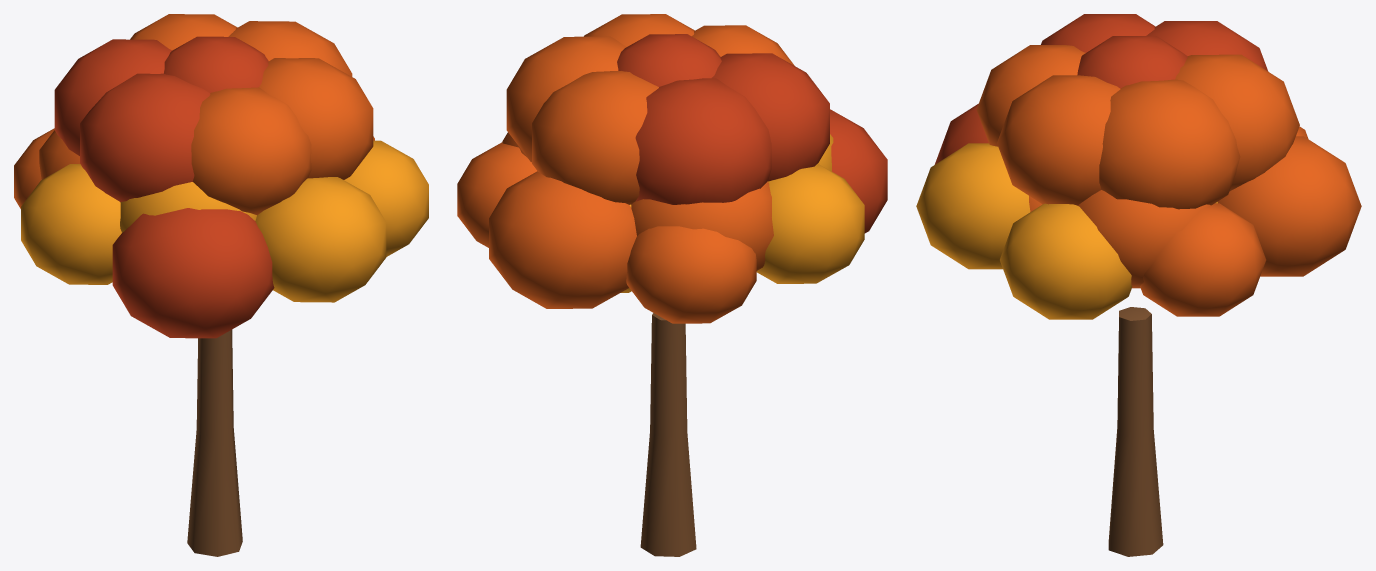
File: autumn_leafy_tree_lod.glb
The picture shows the model from 3 angles, left to right: view 1: azimuth 30°, elevation 25°; view 2: azimuth 150°, elevation 25°; view 3: azimuth 270°, elevation 25°; orthographic projection.
Visible parts, largest first — view 1: leafy_tree_lod; view 2: leafy_tree_lod; view 3: leafy_tree_lod.
Boxes of the visible parts, bbox=[...] form: leafy_tree_lod: bbox=[14, 14, 428, 556]; leafy_tree_lod: bbox=[457, 14, 887, 556]; leafy_tree_lod: bbox=[916, 14, 1361, 556].
Size of the model in its own units: 6.61 by 8.73 by 6.98.
